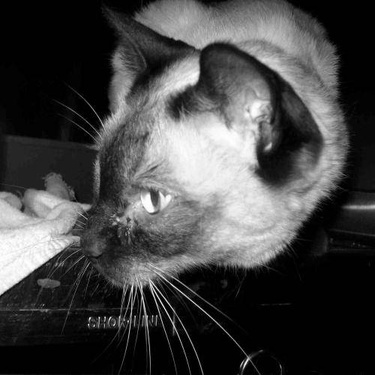cat: (3, 4, 350, 323)
